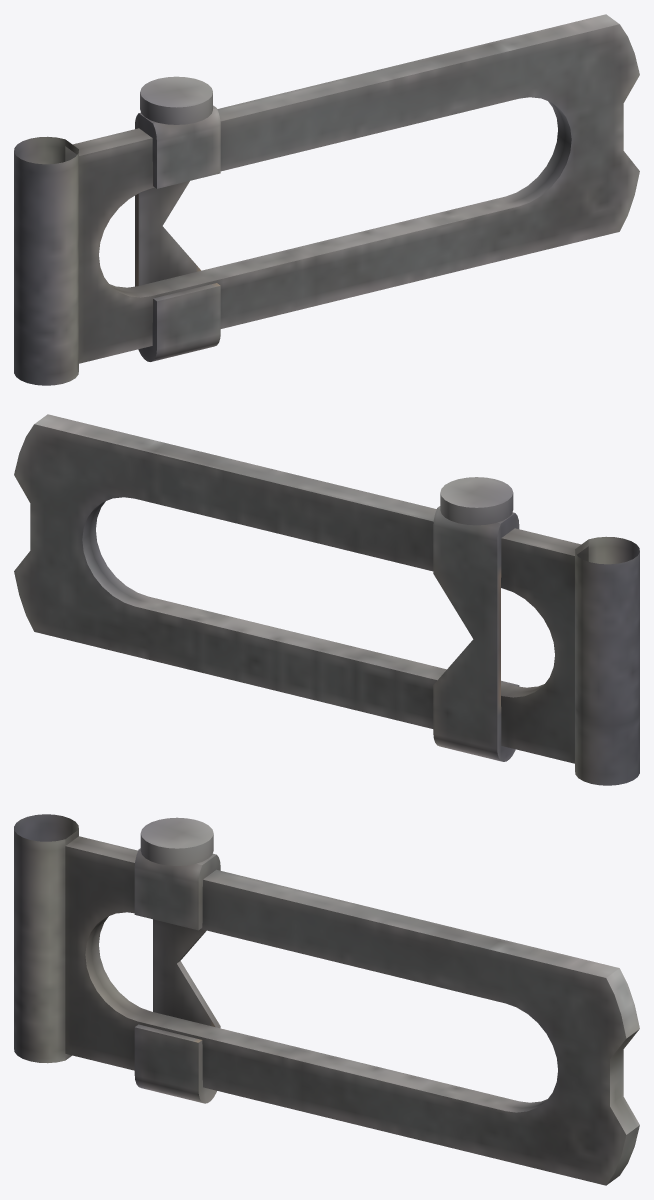
The model's file is SM_McKennan_01b.fbx.
3 renders of one model, top to bottom at view 1: azimuth 30°, elevation 25°; view 2: azimuth 150°, elevation 25°; view 3: azimuth 330°, elevation 25°, orthographic.
Parts seen in each view (by area): view 1: SM_McKennan_01b_LOD0; view 2: SM_McKennan_01b_LOD0; view 3: SM_McKennan_01b_LOD0.
Part boxes in pixels (x1,y1,x2,y2): SM_McKennan_01b_LOD0: [14, 14, 639, 385]; SM_McKennan_01b_LOD0: [14, 414, 639, 785]; SM_McKennan_01b_LOD0: [14, 814, 639, 1185].
Bounding box in the file's own units: 2.8 × 0.2877 × 1.13.
